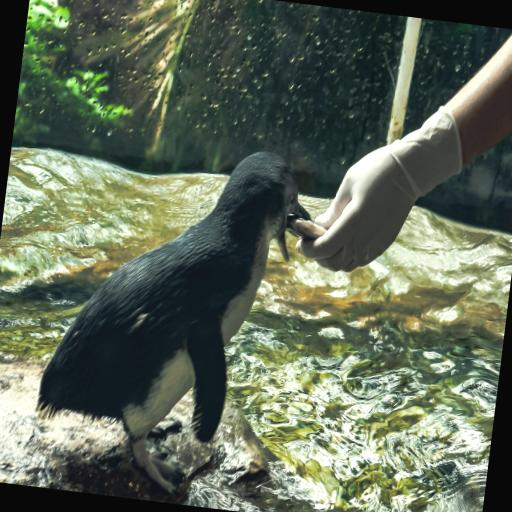Gloves: (274, 72, 486, 292)
